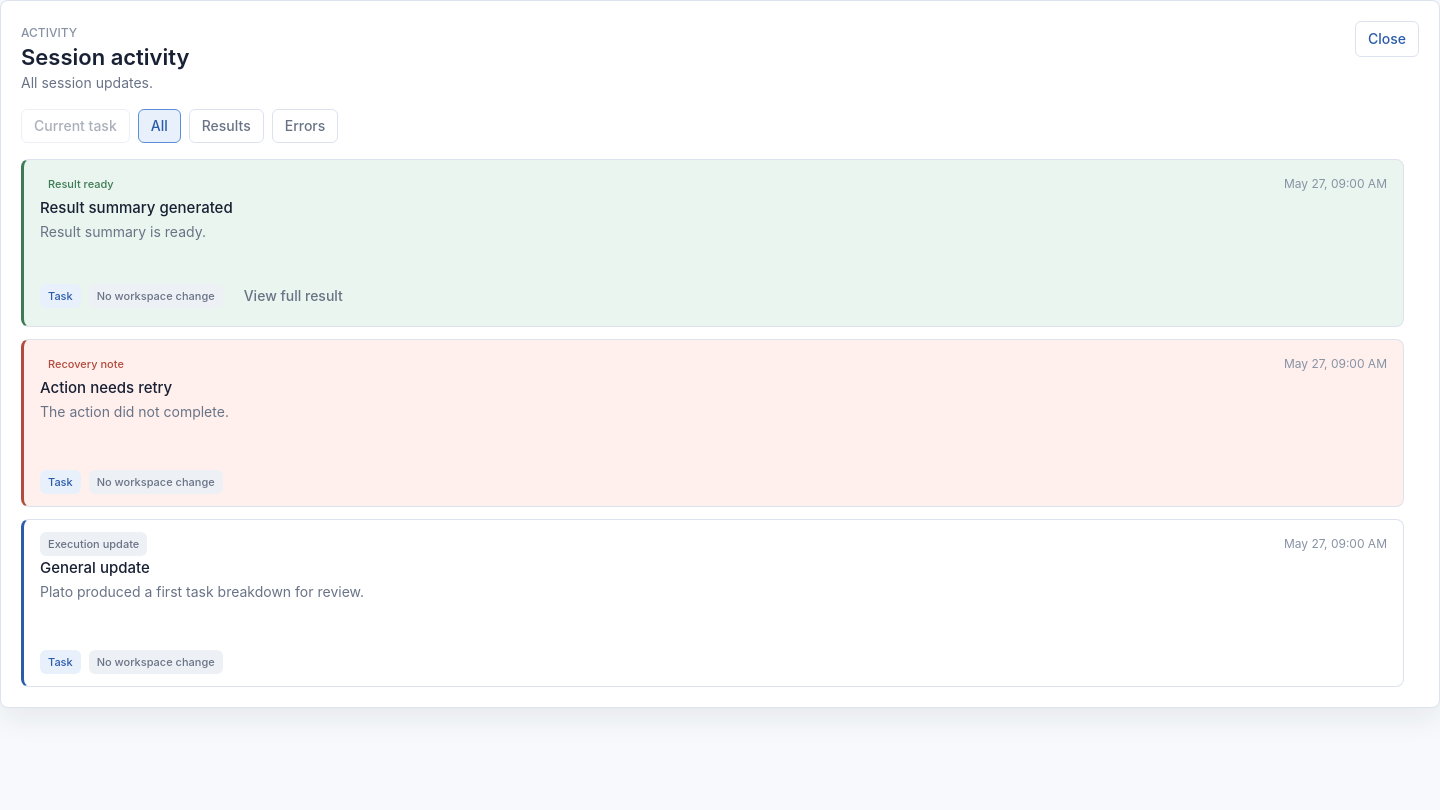
Test case: ActivityOverlay › filters result and error activity
Click the button "Results".
click(226, 126)  # box [189,108,264,143]
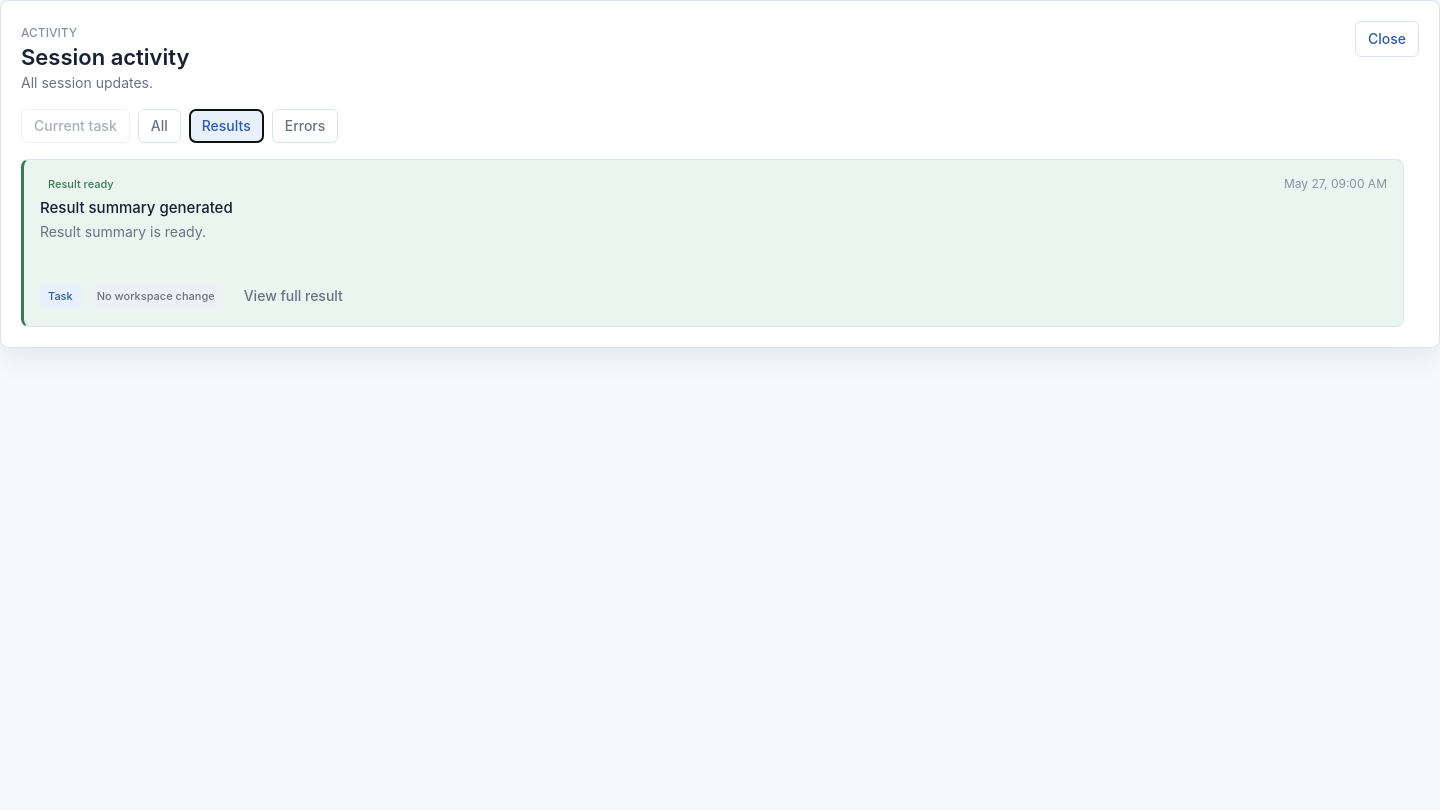
Check: the text "Result summary generated" is shown, box [40,198,233,217]
Check: the text "Action needs retry" is gone
Click the button "Errors".
click(305, 126)  # box [272,108,338,143]
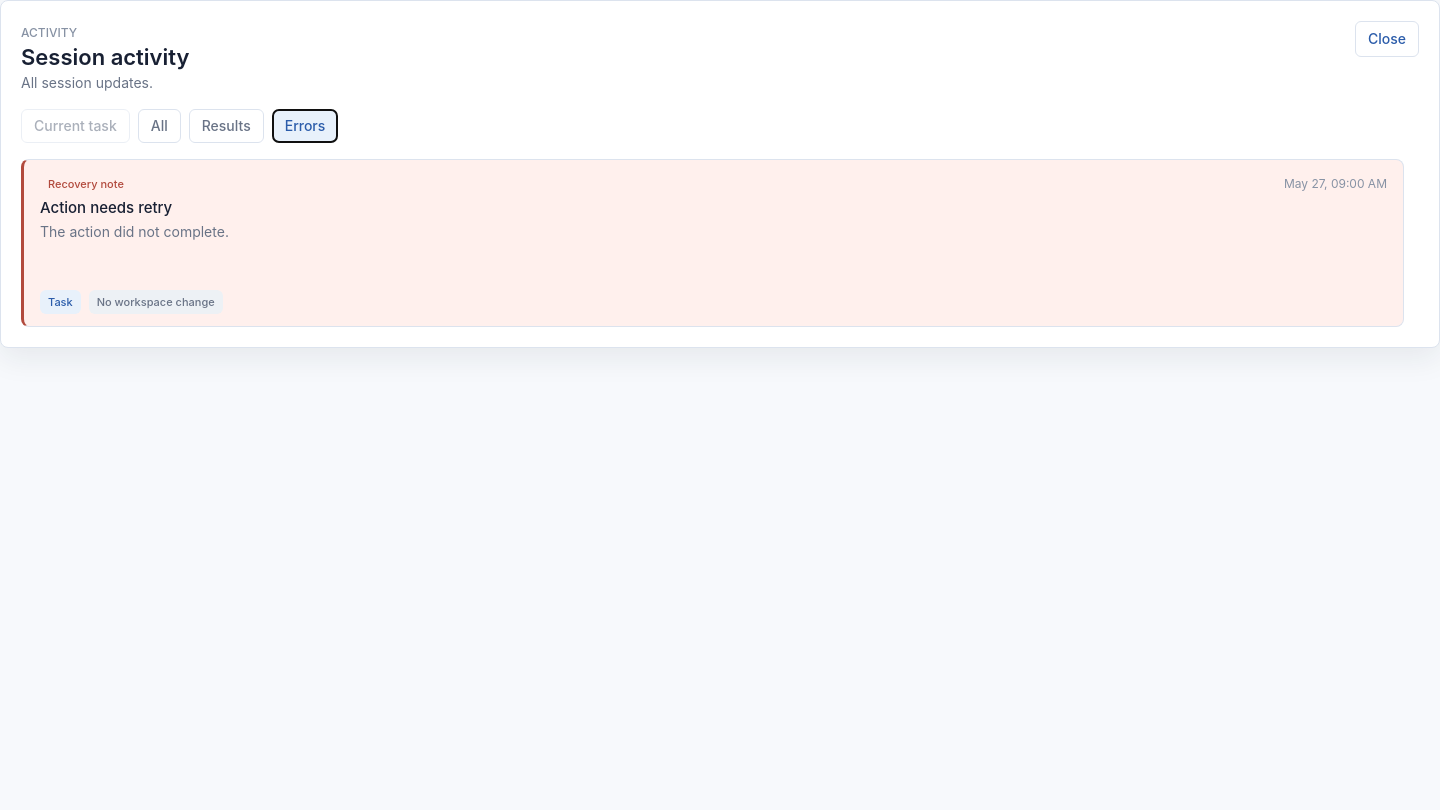
Check: the text "Action needs retry" is shown, box [40,198,172,217]
Check: the text "Result summary generated" is gone
